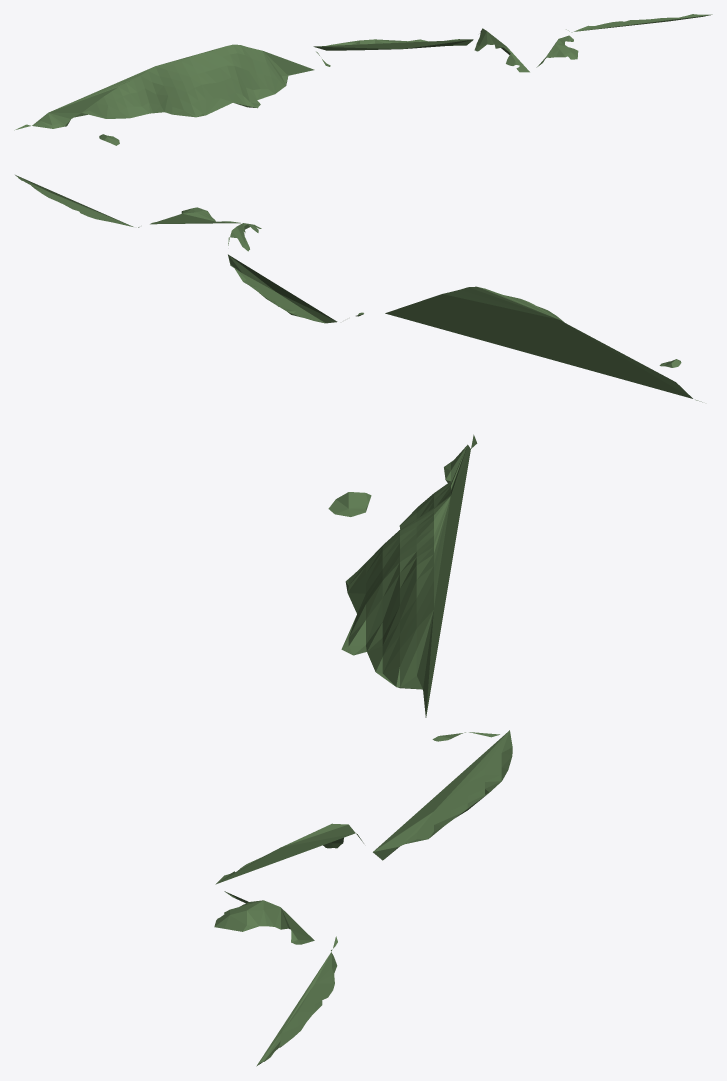
The model's file is tile_4_6.glb.
The picture shows the model from 3 angles, top to bottom: view 1: azimuth 30°, elevation 25°; view 2: azimuth 150°, elevation 25°; view 3: azimuth 270°, elevation 25°; orthographic projection. The views are drawn at different scales.
Parts seen in each view (by area): view 1: grn_4_6; view 2: grn_4_6; view 3: grn_4_6.
Part boxes in pixels (box(x1,y1,x2,y2)): grn_4_6: box(14, 14, 712, 145); grn_4_6: box(15, 175, 702, 402); grn_4_6: box(214, 434, 512, 1066).
Bounding box in the file's own units: 700 × 49.34 × 140.
